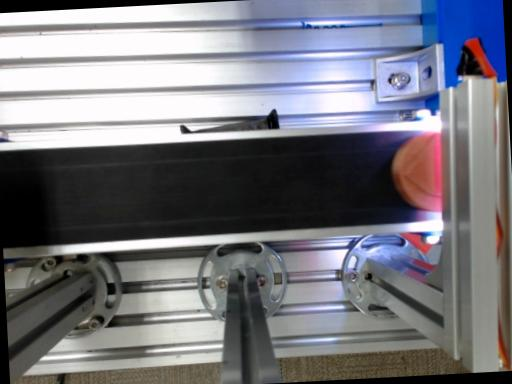Brown_Waper: (391, 132, 441, 211)
